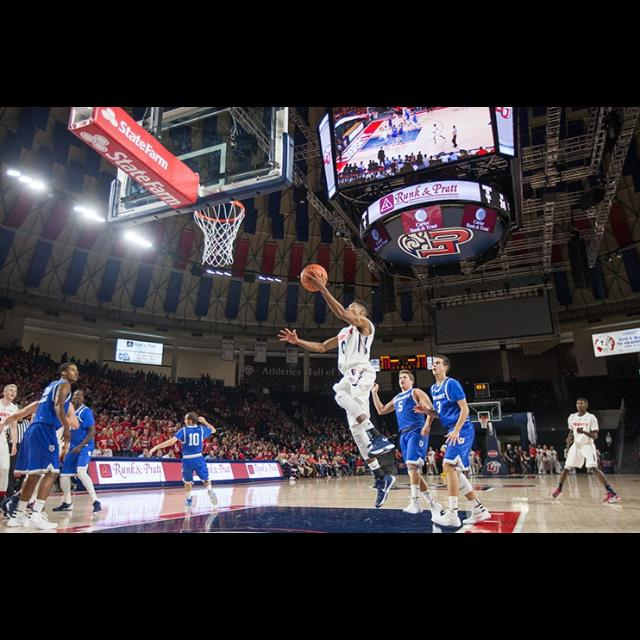head: (345, 300, 371, 322), (51, 382, 73, 401), (432, 356, 452, 376), (60, 363, 80, 383), (3, 384, 19, 402), (399, 372, 415, 388), (183, 414, 199, 428), (72, 391, 86, 405), (578, 398, 590, 414), (13, 406, 25, 422)
person: (276, 263, 400, 513), (412, 354, 493, 532), (7, 361, 82, 534), (369, 368, 446, 526), (0, 378, 82, 524), (550, 394, 622, 506), (148, 411, 222, 509), (51, 388, 105, 518), (4, 402, 34, 514), (1, 382, 23, 522)
